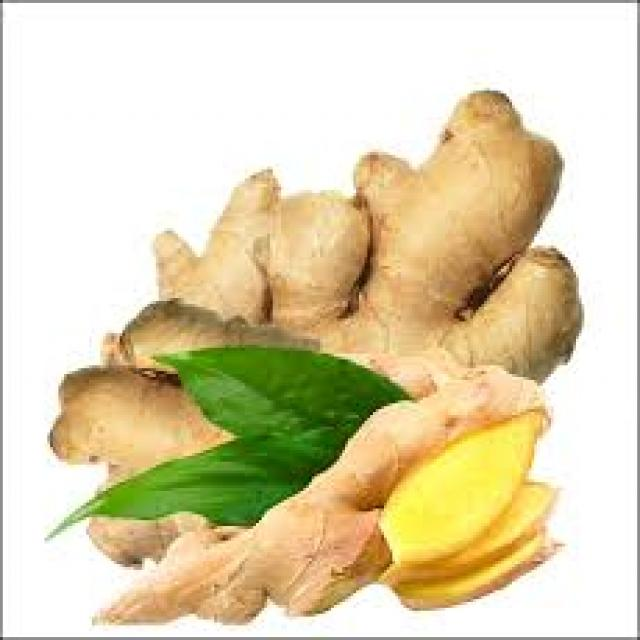ginger: (117, 110, 596, 363), (242, 400, 602, 616)
